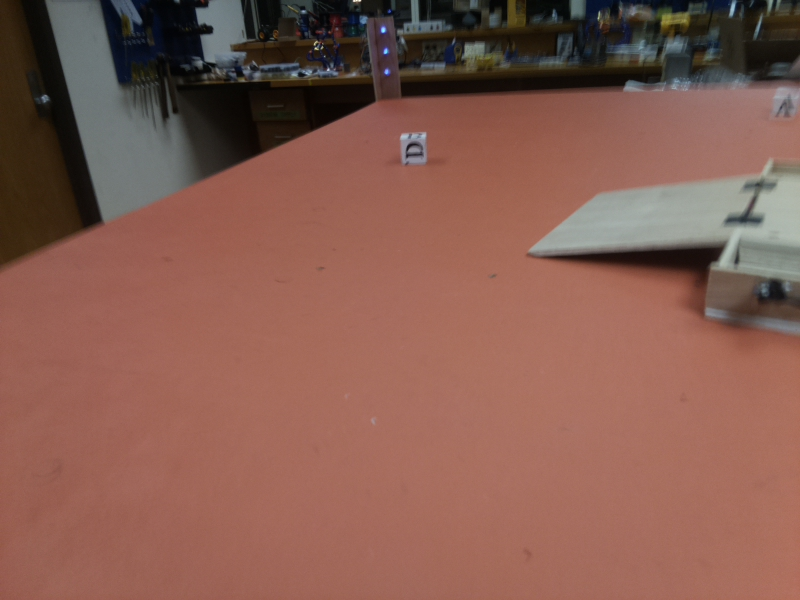blockA: (772, 89, 800, 123)
blockD: (396, 130, 430, 168)
corner: (364, 16, 404, 99)
side: (699, 263, 800, 338), (755, 153, 800, 177)
slope: (528, 176, 748, 257)
